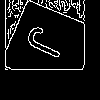J: (24, 23, 75, 66)
